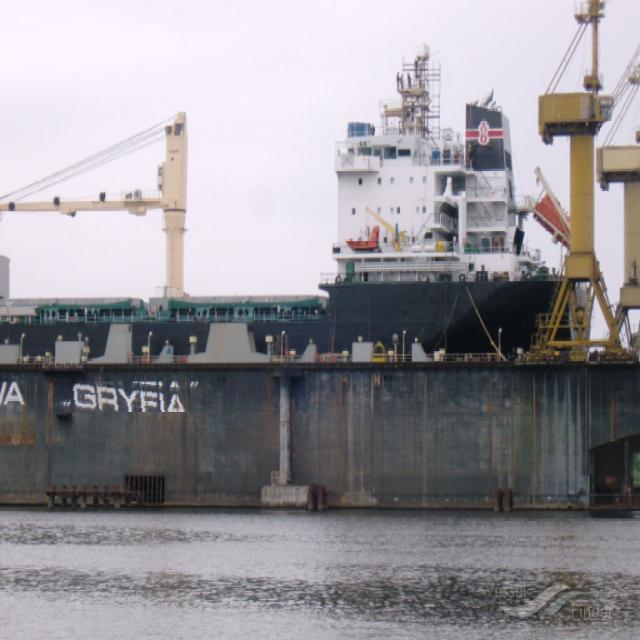OCR: (56, 374, 190, 412)
